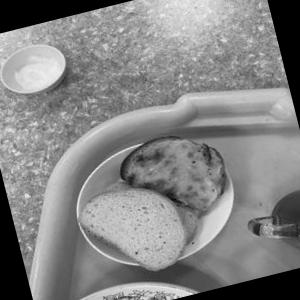bread: (64, 157, 205, 294)
cheese_sandwich: (107, 116, 240, 234)
